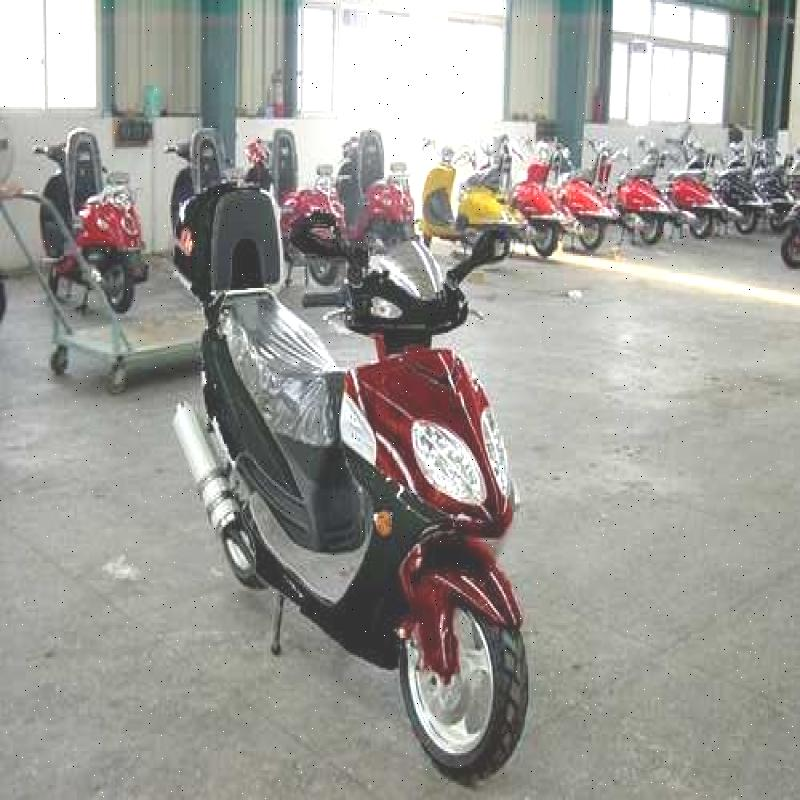bike: (323, 203, 550, 784)
